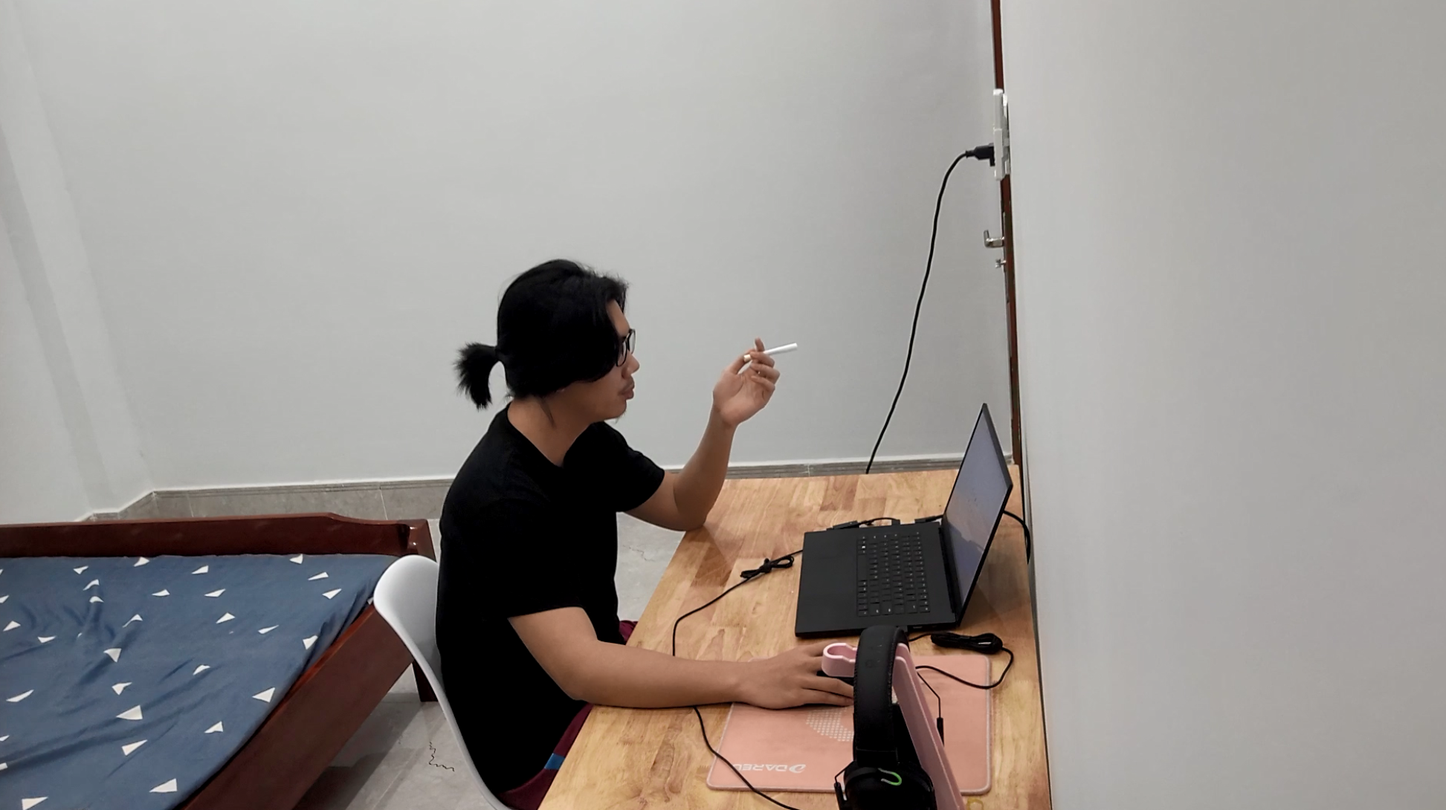cigarette: (740, 341, 802, 363)
person: (407, 221, 747, 810)
